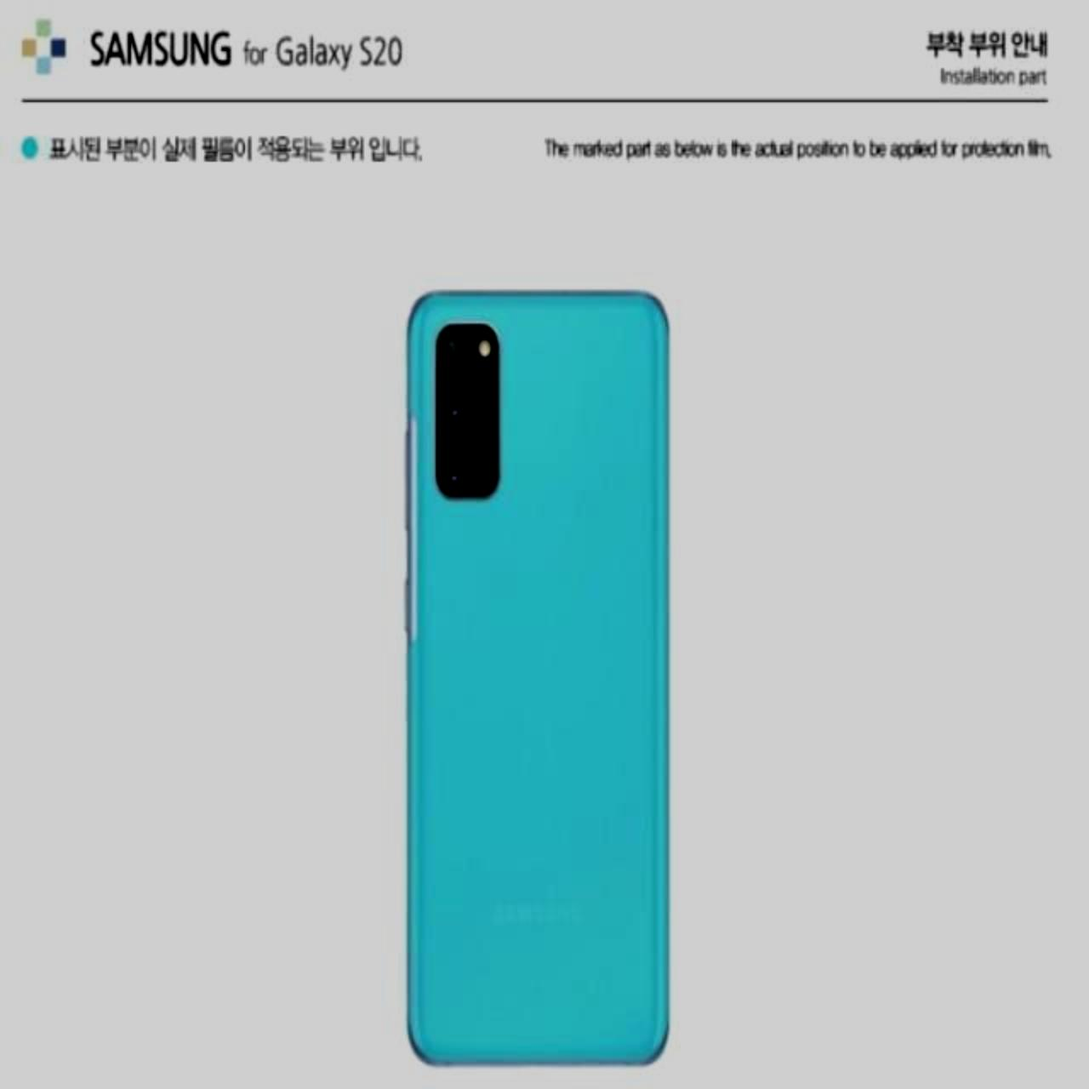phone: (405, 284, 669, 1069)
